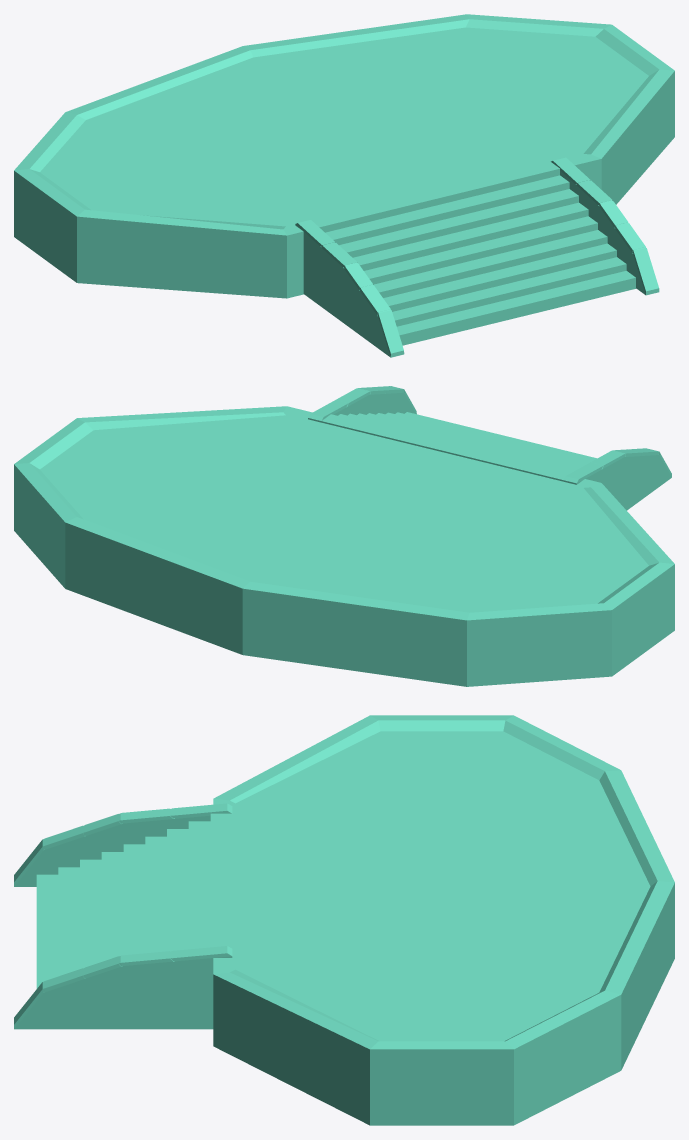
The model's file is Base Altar.fbx.
The picture shows the model from 3 angles, top to bottom: view 1: azimuth 30°, elevation 25°; view 2: azimuth 150°, elevation 25°; view 3: azimuth 270°, elevation 25°; orthographic projection. The views are drawn at different scales.
Visible parts, largest first — view 1: Altar; view 2: Altar; view 3: Altar.
Boxes of the visible parts, box(x1,y1,x2,y2) form: Altar: box(14, 14, 674, 357); Altar: box(14, 386, 674, 686); Altar: box(14, 715, 674, 1125).
Bounding box in the file's own units: 1313 × 142 × 1098.
